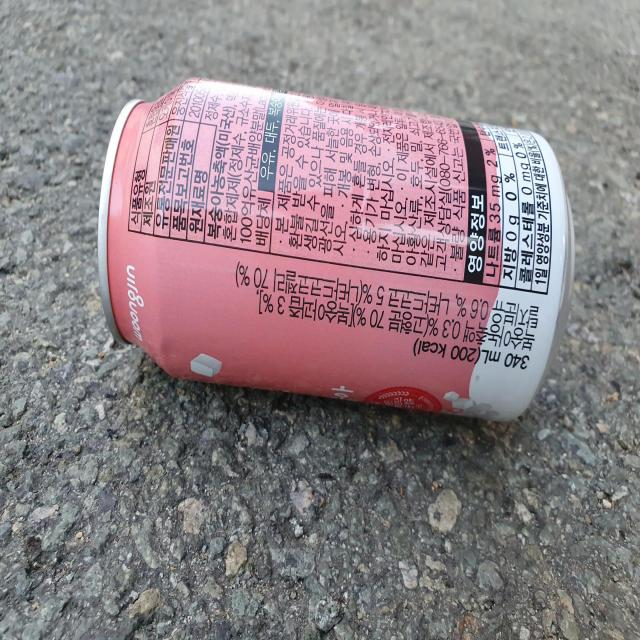can: (97, 78, 575, 420)
